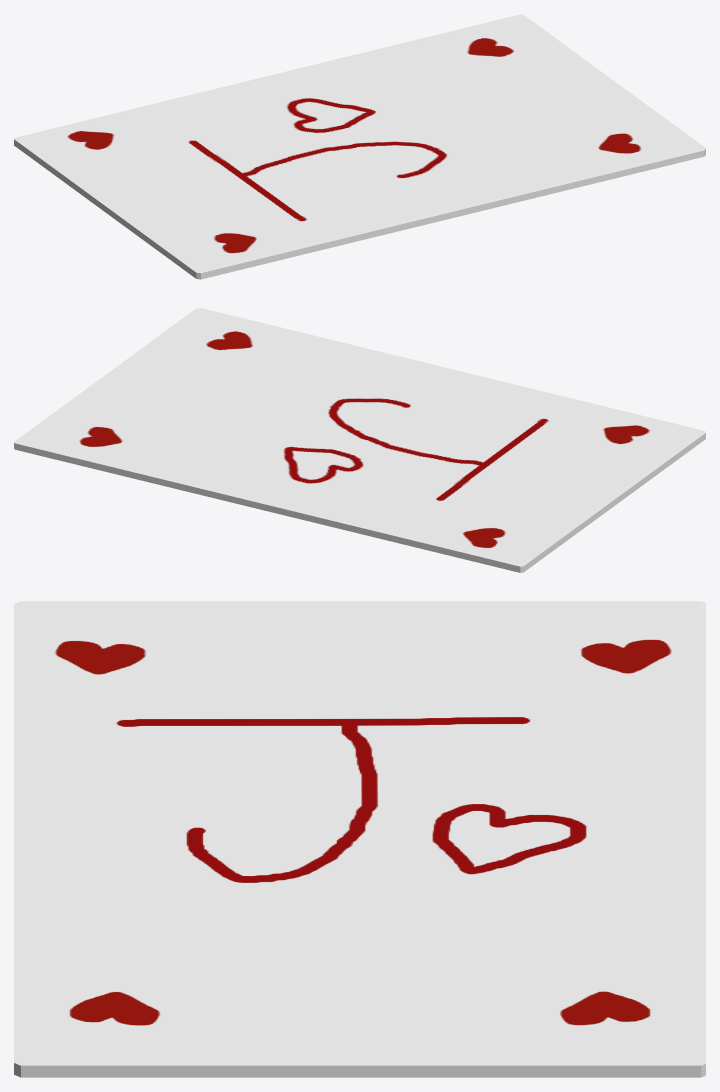
File: Jack_Of_hearts.fbx
3 views of the same model, one above another, from view 1: azimuth 30°, elevation 25°; view 2: azimuth 150°, elevation 25°; view 3: azimuth 270°, elevation 25° (orthographic). The views are drawn at different scales.
Visible parts, largest first — view 1: Hearts3; view 2: Hearts3; view 3: Hearts3.
Boxes of the visible parts, box(x1,y1,x2,y2) form: Hearts3: box(14, 14, 705, 279); Hearts3: box(14, 308, 705, 572); Hearts3: box(14, 601, 705, 1077).
Bounding box in the file's own units: 540 × 6.56 × 340.
